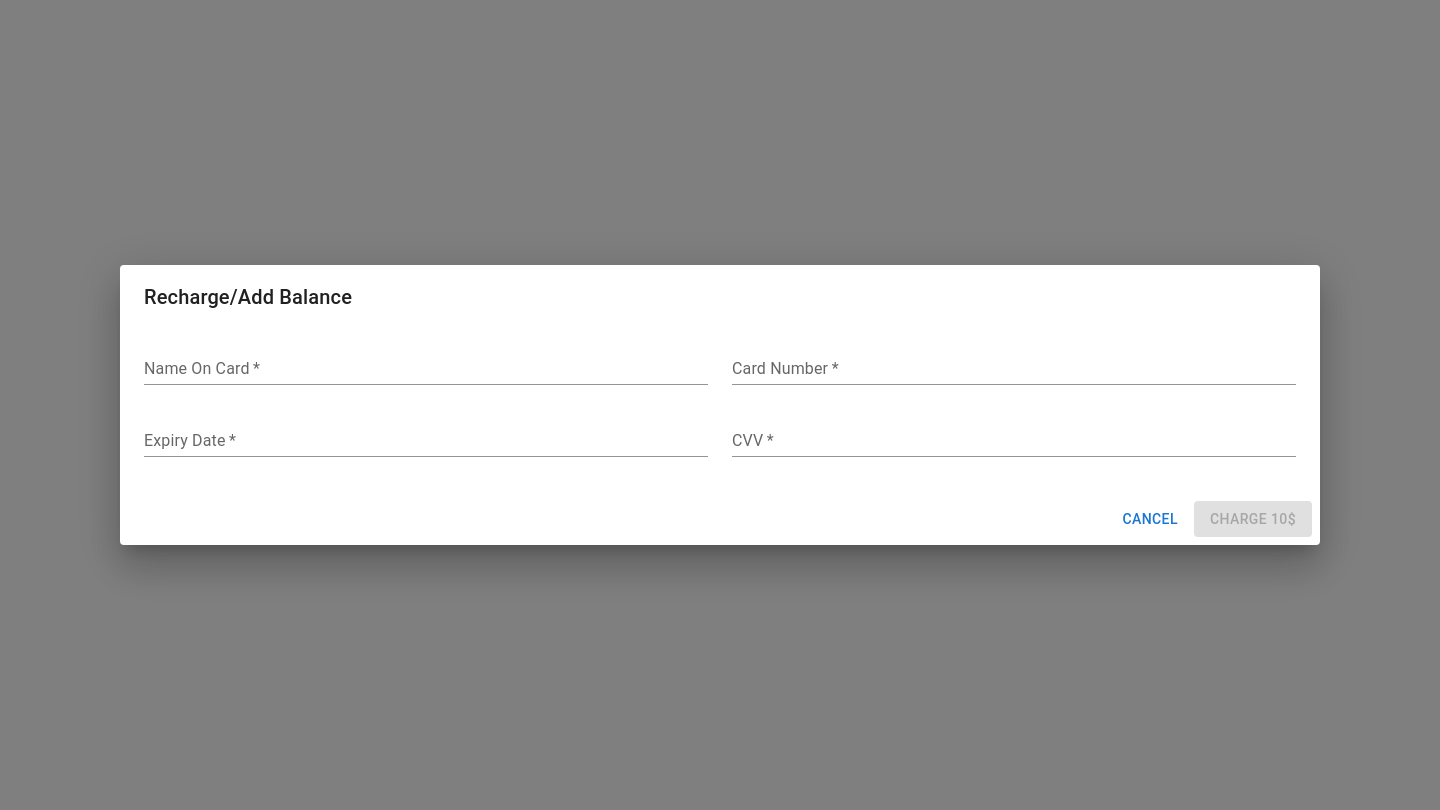
Test: Recharge Dialog › validate on Card Name and show error message
Type "test" into the field labelled "Name On Card *" at (426, 369), box left=144, top=353, right=708, bottom=385
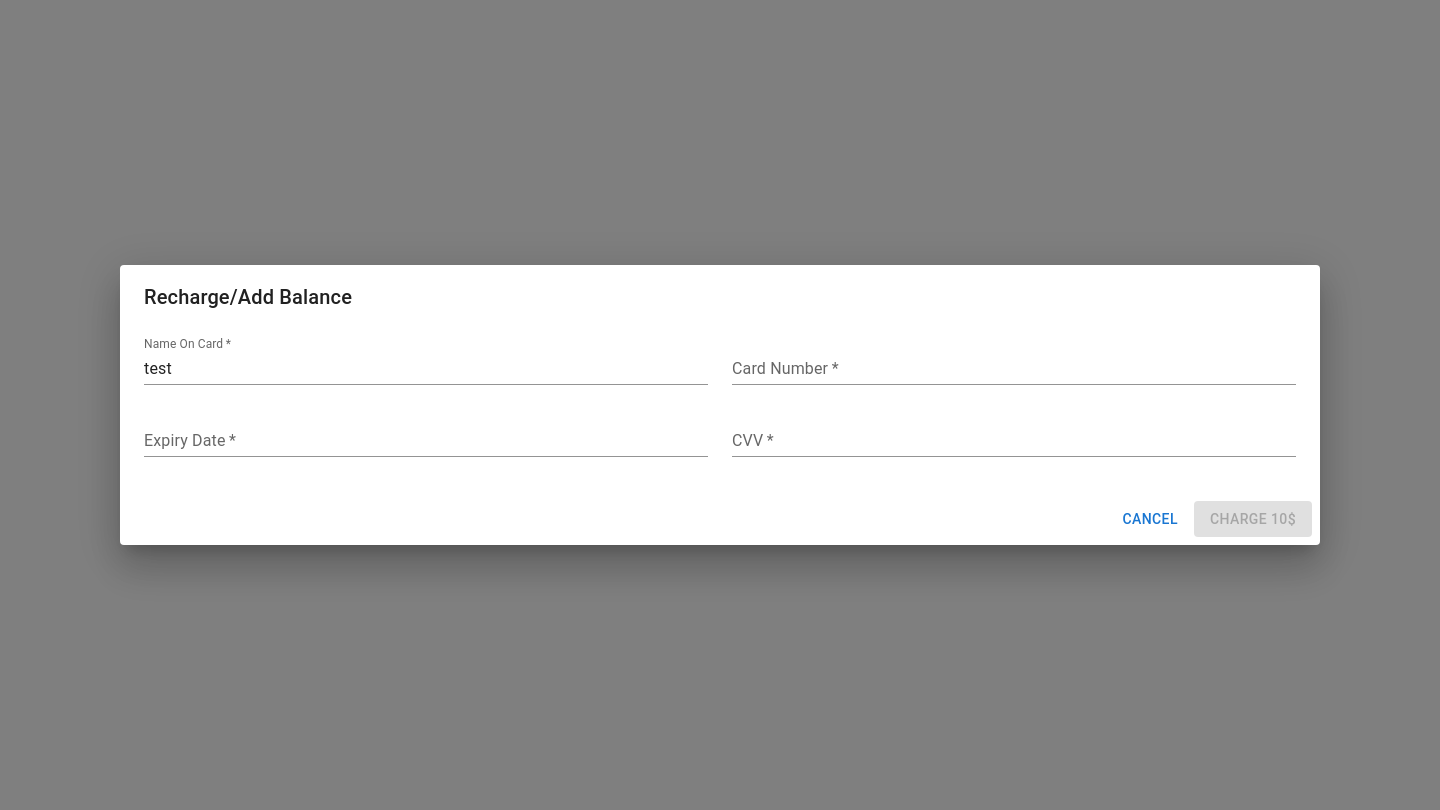
Clear the field labelled "Name On Card *" at (426, 369), box left=144, top=353, right=708, bottom=385
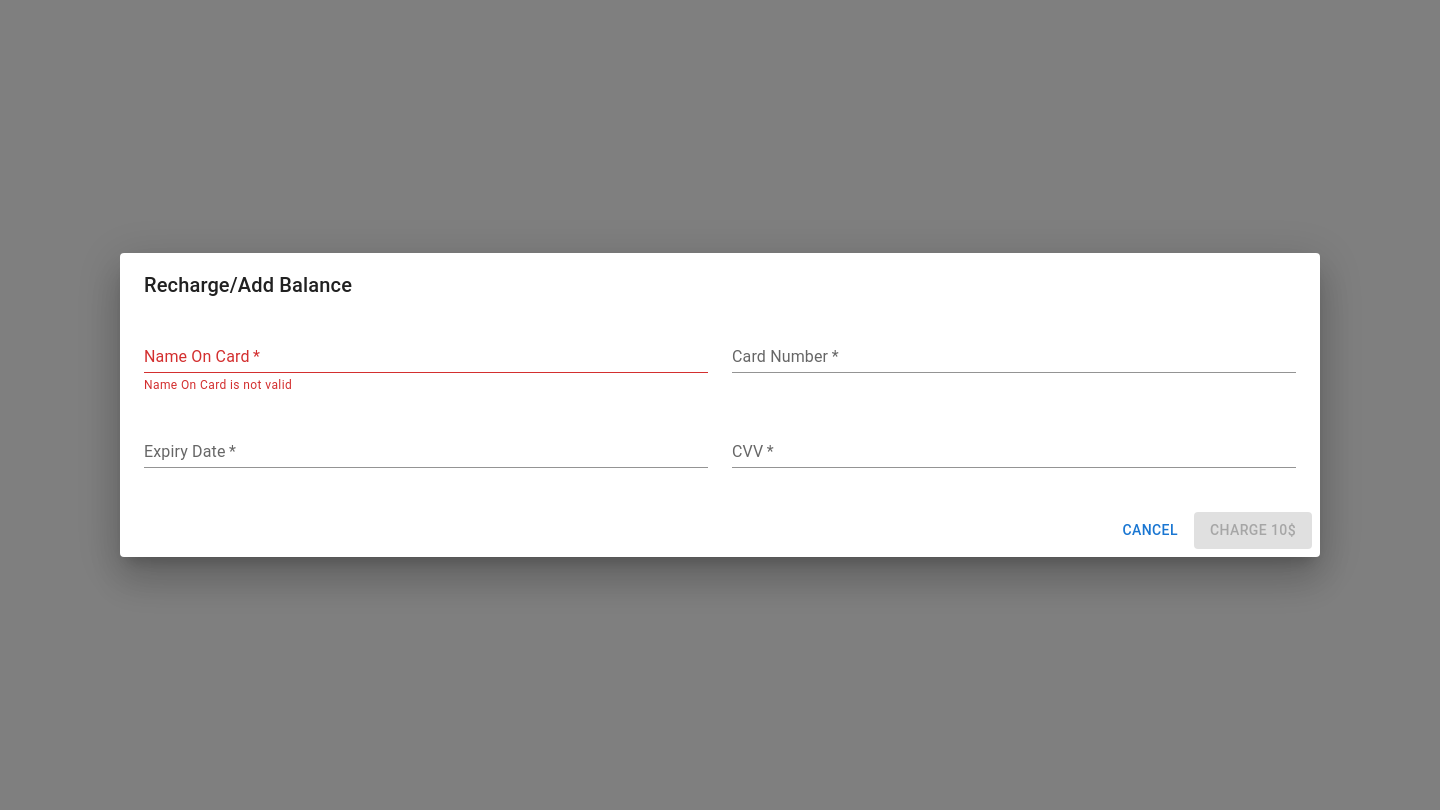
Now the text "Name On Card is not valid" is shown, box left=144, top=378, right=292, bottom=392
